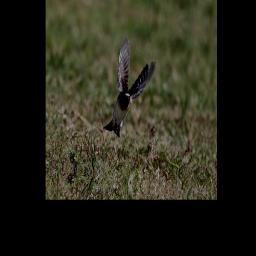Swallow: (102, 33, 158, 144)
